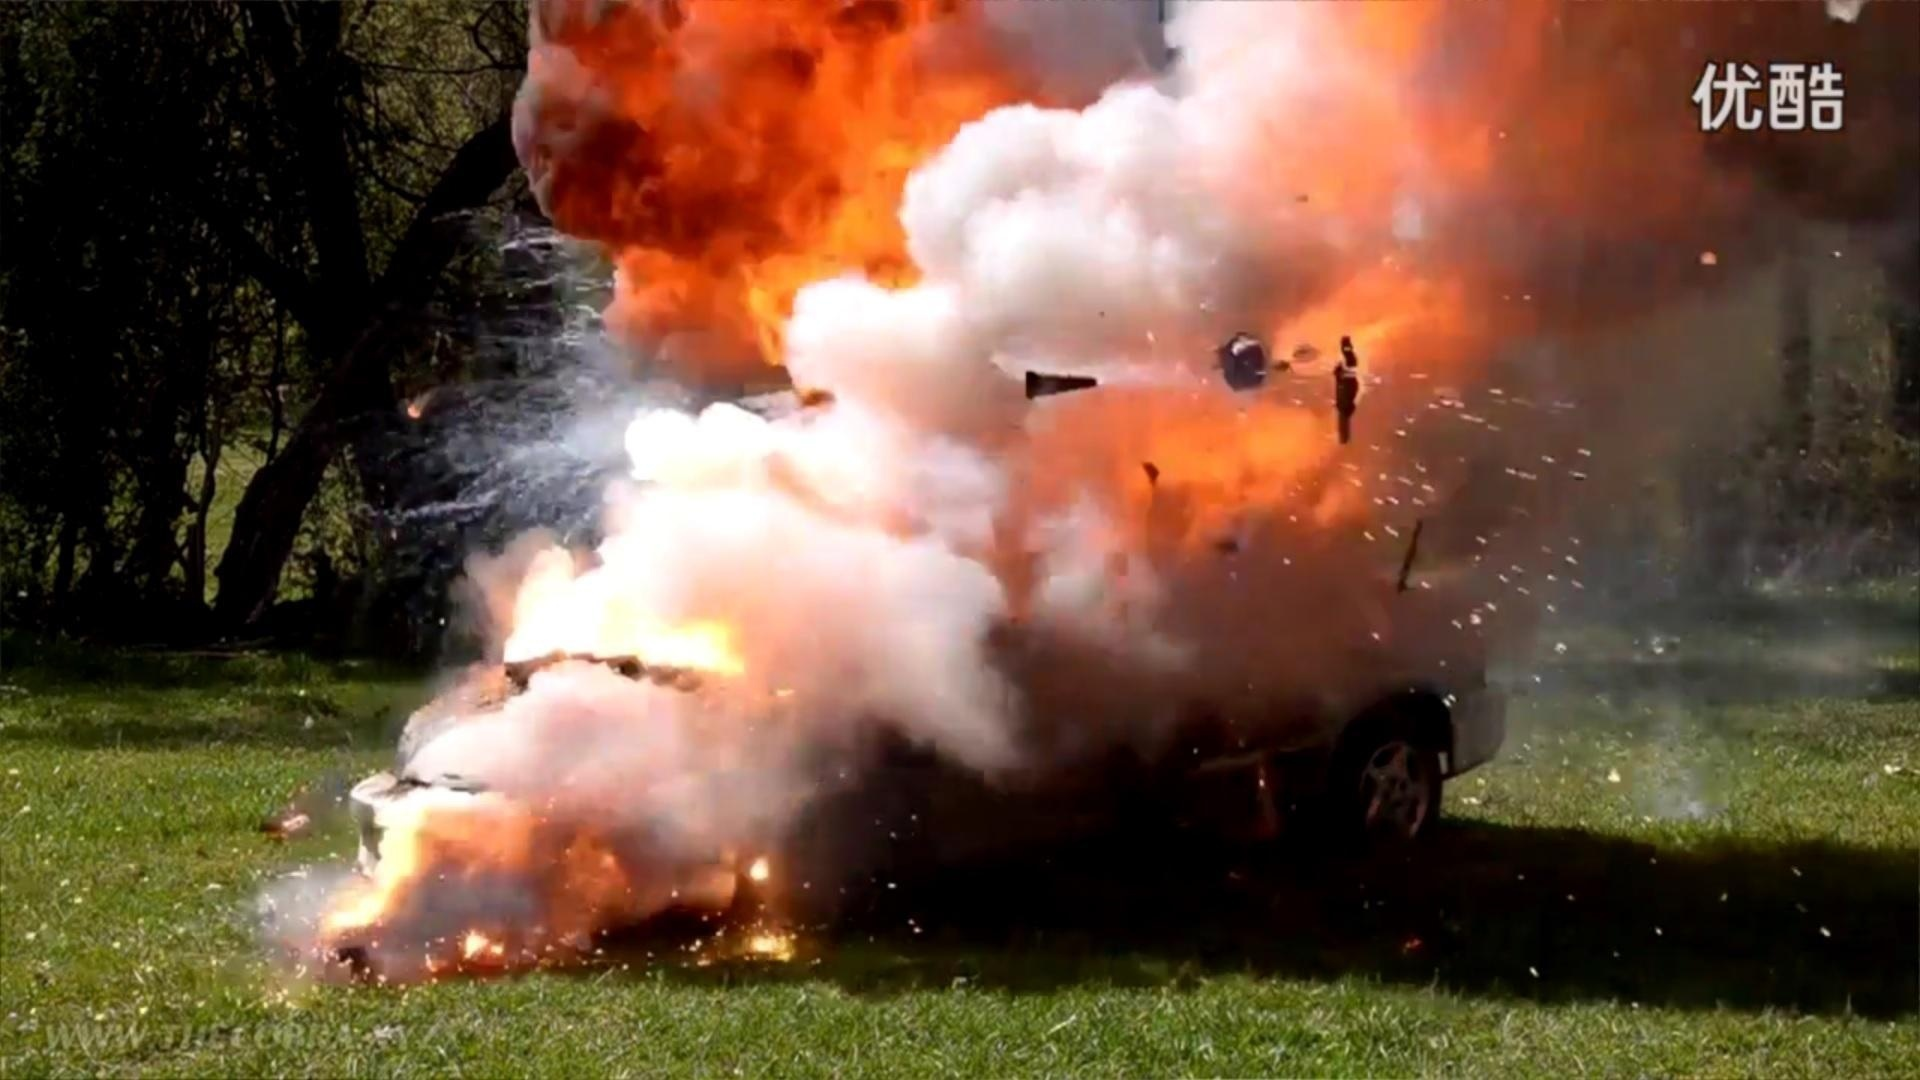fire: (508, 578, 748, 682)
